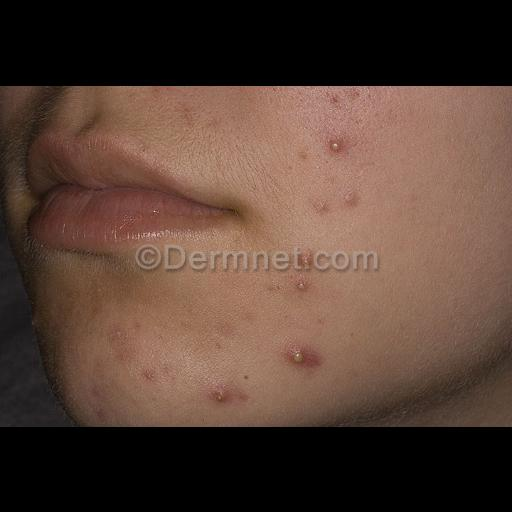Skin_Lesion: (313, 186, 359, 218), (285, 339, 323, 371), (278, 268, 312, 300), (207, 379, 239, 409), (324, 124, 350, 158), (322, 86, 354, 112), (140, 361, 166, 391), (106, 326, 134, 352), (24, 309, 46, 337), (291, 250, 319, 270), (148, 84, 184, 96), (206, 111, 224, 129), (270, 86, 284, 92)
